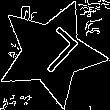L_SW: (22, 24, 80, 82)
